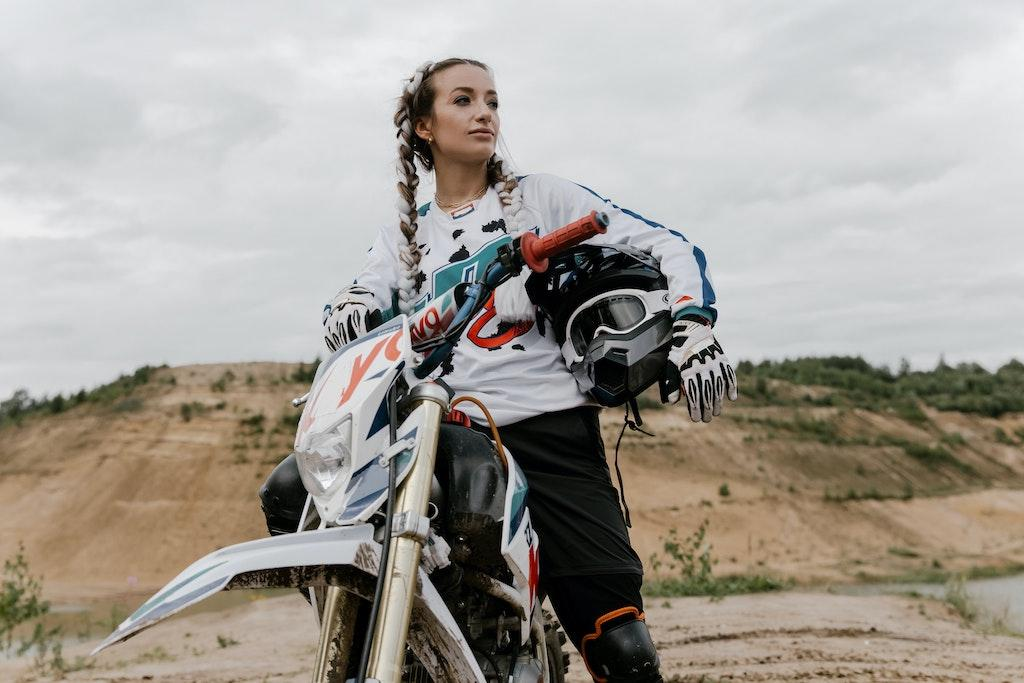helmet: (524, 242, 693, 428)
nohelmet: (393, 56, 502, 180)
